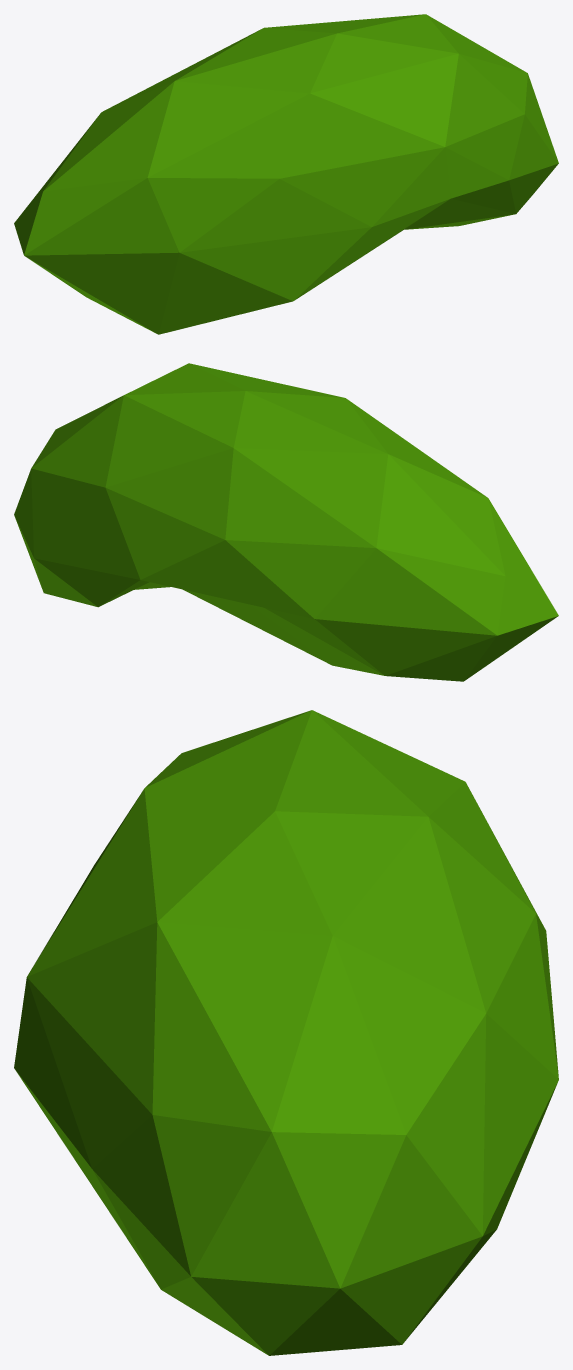
File: Vegetation_Modular_New_Tree_Leaf_Bunch_06.FBX
The picture shows the model from 3 angles, top to bottom: view 1: azimuth 30°, elevation 25°; view 2: azimuth 150°, elevation 25°; view 3: azimuth 270°, elevation 25°; orthographic projection. The views are drawn at different scales.
Visible parts, largest first — view 1: Vegetation_Modular_New_Tree_Leaf_Bunch_06; view 2: Vegetation_Modular_New_Tree_Leaf_Bunch_06; view 3: Vegetation_Modular_New_Tree_Leaf_Bunch_06.
Boxes of the visible parts, box(x1,y1,x2,y2) form: Vegetation_Modular_New_Tree_Leaf_Bunch_06: box(14, 14, 558, 334); Vegetation_Modular_New_Tree_Leaf_Bunch_06: box(14, 363, 558, 681); Vegetation_Modular_New_Tree_Leaf_Bunch_06: box(14, 710, 558, 1355).
Bounding box in the file's own units: 1827 × 770 × 912.
